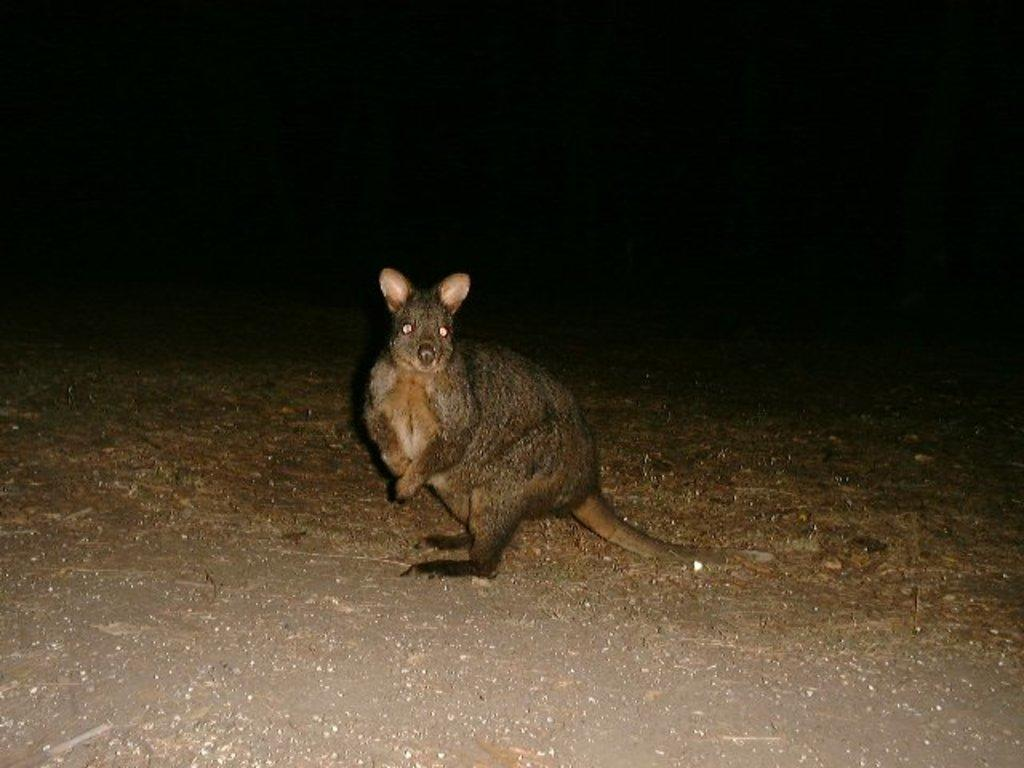kangaroo: (360, 260, 776, 574)
